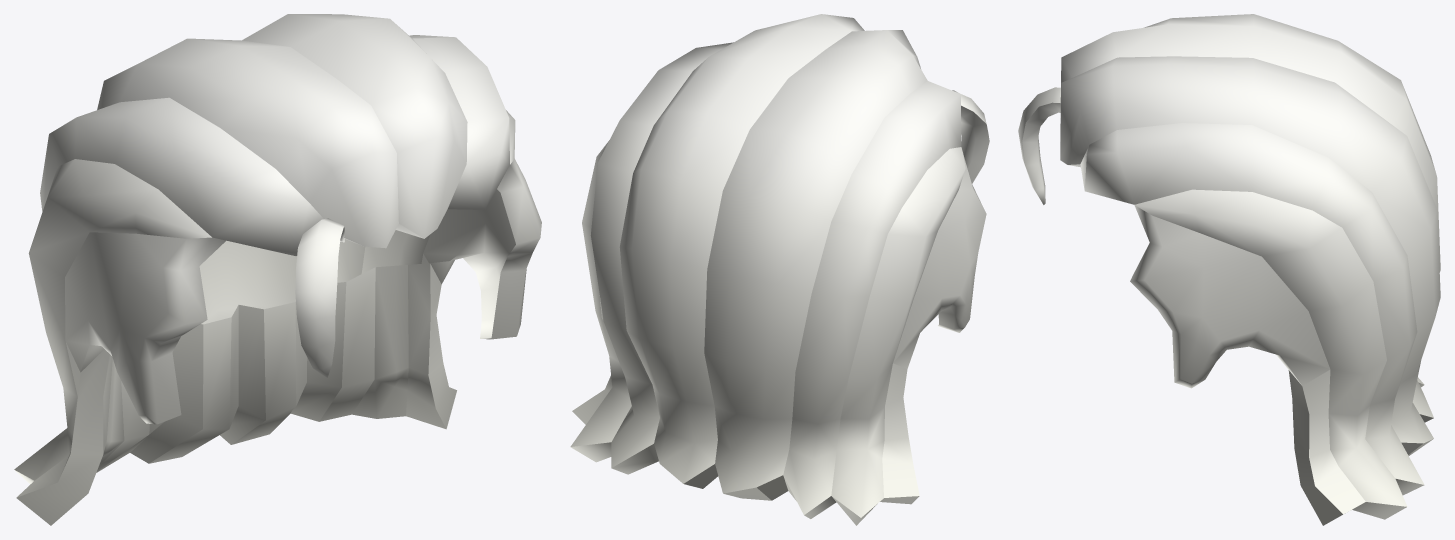
The model's file is Hair_White_9.fbx.
3 views of the same model, side by side, from view 1: azimuth 30°, elevation 25°; view 2: azimuth 150°, elevation 25°; view 3: azimuth 270°, elevation 25° (orthographic). The views are drawn at different scales.
Visible parts, largest first — view 1: Hair_White_9; view 2: Hair_White_9; view 3: Hair_White_9.
Boxes of the visible parts, x1,y1,x2,y2 form: Hair_White_9: (14, 14, 541, 525); Hair_White_9: (570, 14, 989, 525); Hair_White_9: (1018, 14, 1440, 525).
Size of the model in its own units: 58.08 by 61.17 by 57.42.
